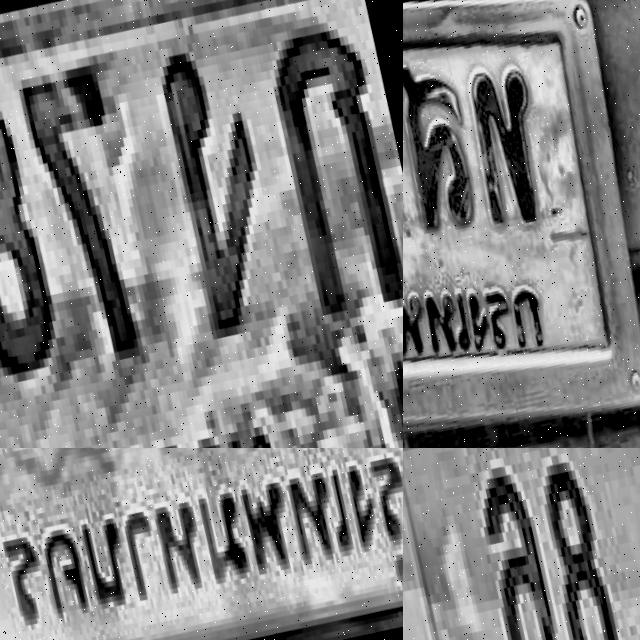license-plate: (0, 0, 403, 448), (403, 0, 640, 448), (0, 448, 403, 640), (403, 448, 640, 640)
